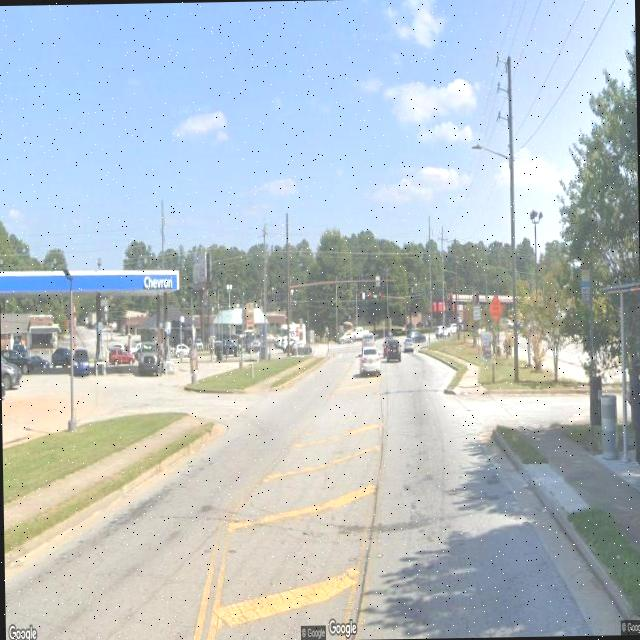shelter: (608, 279, 640, 488)
trash_can: (600, 391, 618, 460), (590, 368, 604, 425)
